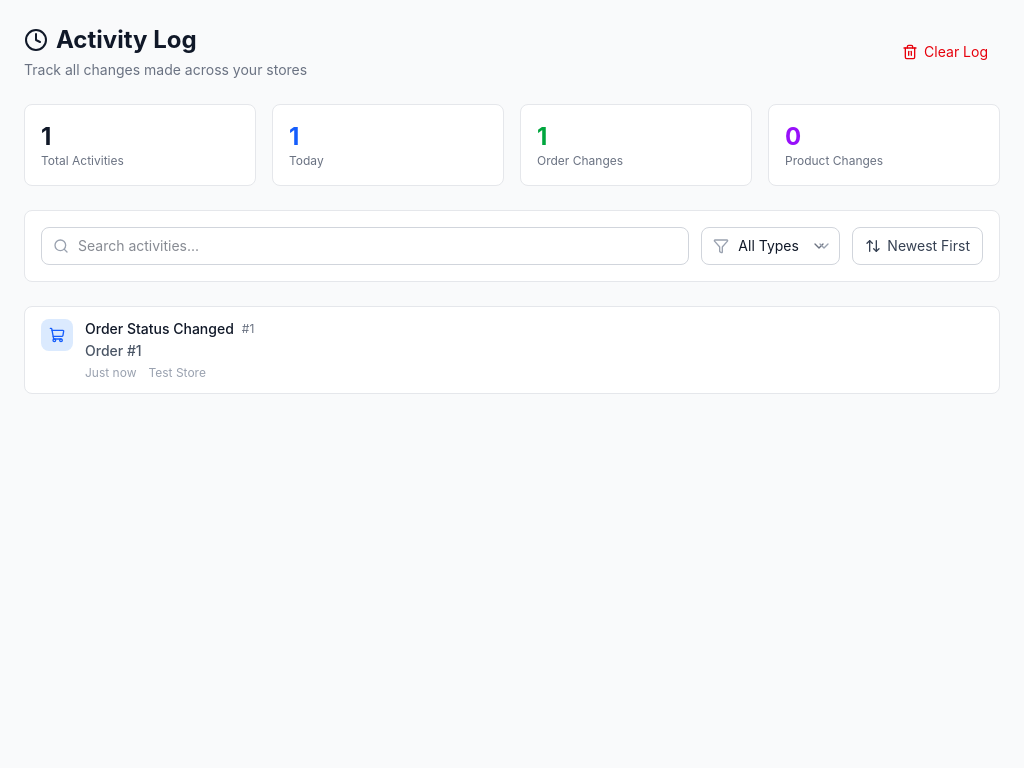
Test: ActivityLogPage › clear log › shows confirmation modal when Clear Log clicked
This screenshot has width=1024, height=768.
Click the button "Clear Log". click: click(945, 52)
box: [890,34,1000,70]
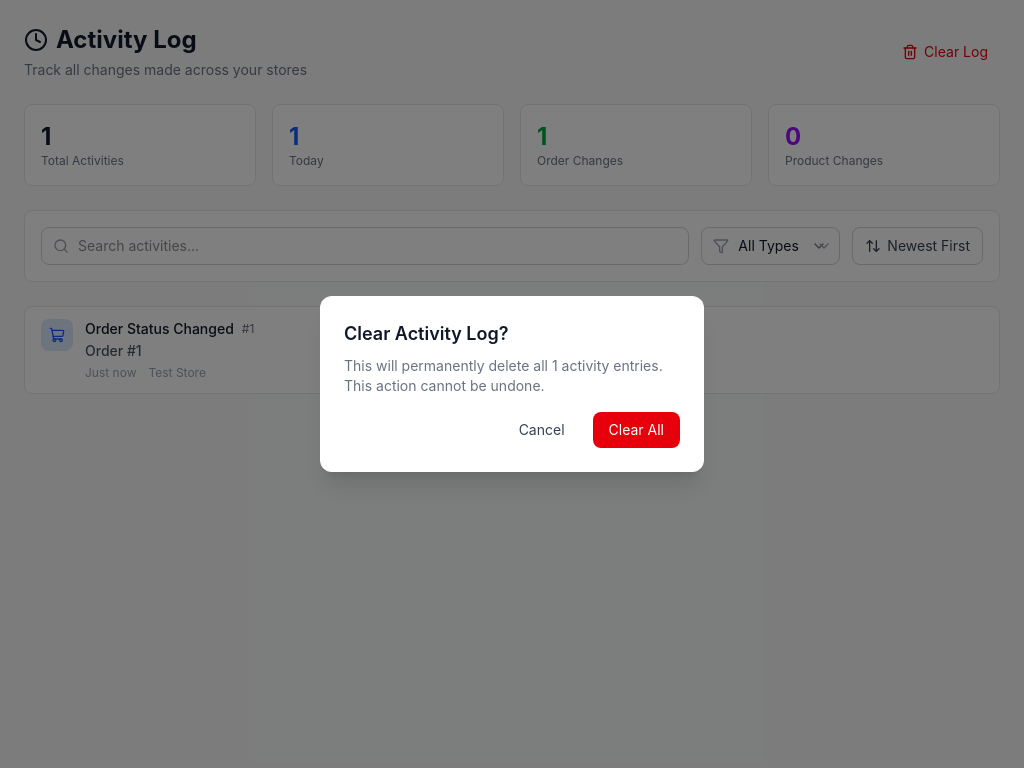
Result: the heading "Clear Activity Log?" is shown at [344,323,508,344]
